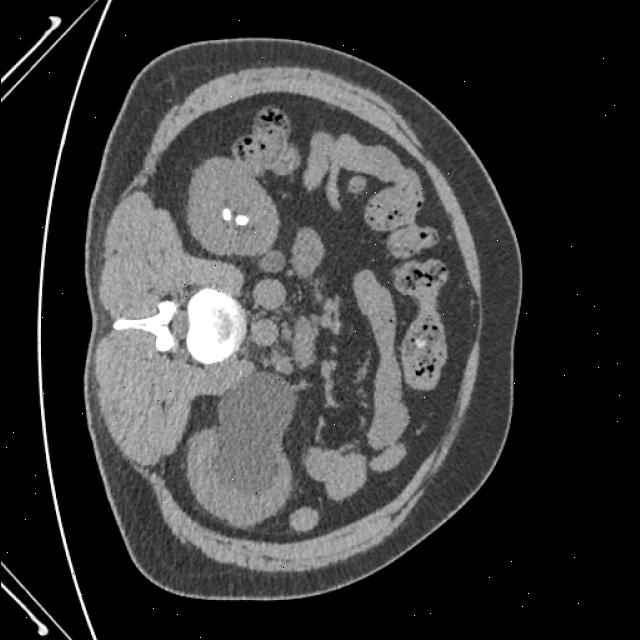kidneystone: (234, 215, 248, 226), (221, 208, 231, 221)
